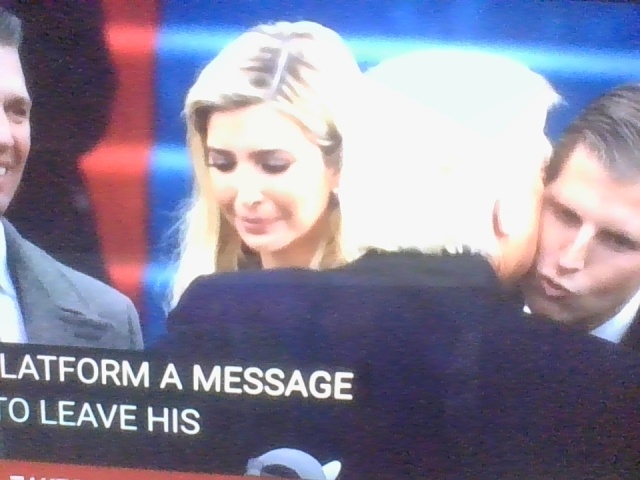fake: (189, 36, 355, 272)
